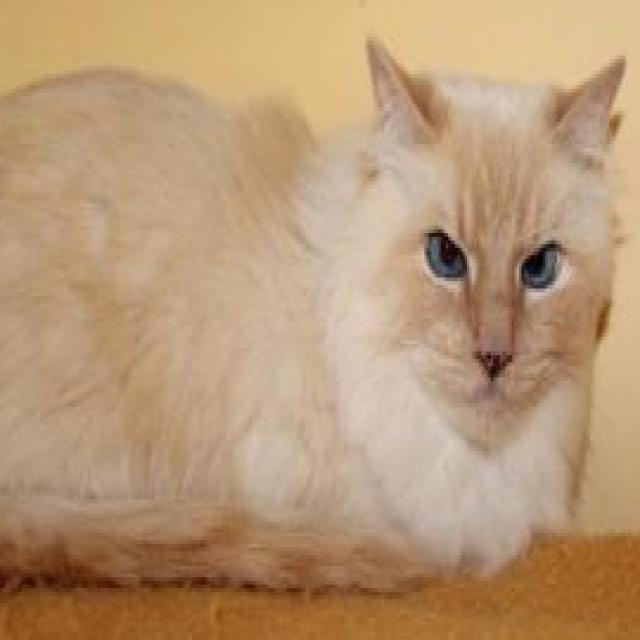Ragdoll: (0, 26, 631, 599)
